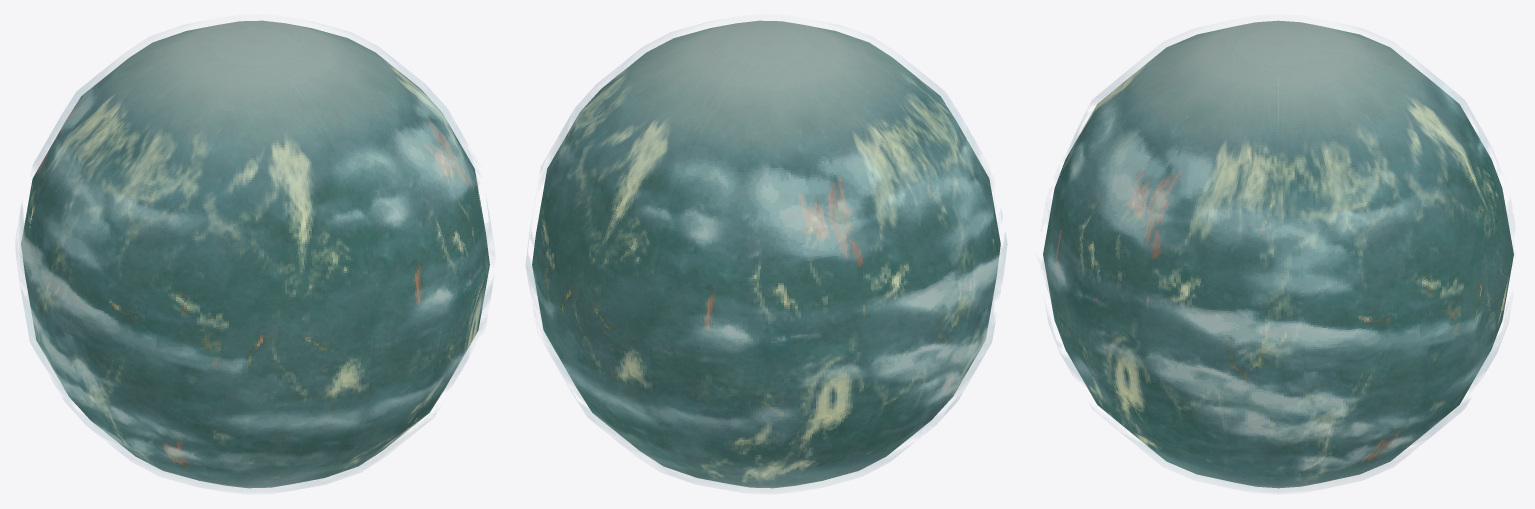
The model's file is phokaido_cmp.gltf.
3 renders of one model, left to right at view 1: azimuth 30°, elevation 25°; view 2: azimuth 150°, elevation 25°; view 3: azimuth 270°, elevation 25°, orthographic.
Visible parts, largest first — view 1: Root, clouds; view 2: Root, clouds; view 3: Root, clouds.
Part boxes in pixels (<box>): Root: <box>21,20,489,488</box>; clouds: <box>16,14,492,494</box>; Root: <box>532,20,1000,488</box>; clouds: <box>525,14,1007,494</box>; Root: <box>1043,20,1513,488</box>; clouds: <box>1042,14,1509,494</box>.
Bounding box in the file's own units: 44.28 × 44.28 × 44.28.
Materials: 2 (2 with a texture image).
